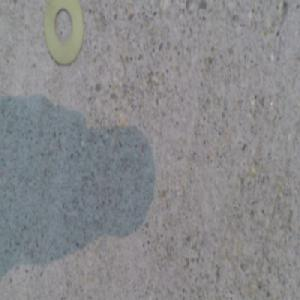Washer: (43, 2, 83, 71)
